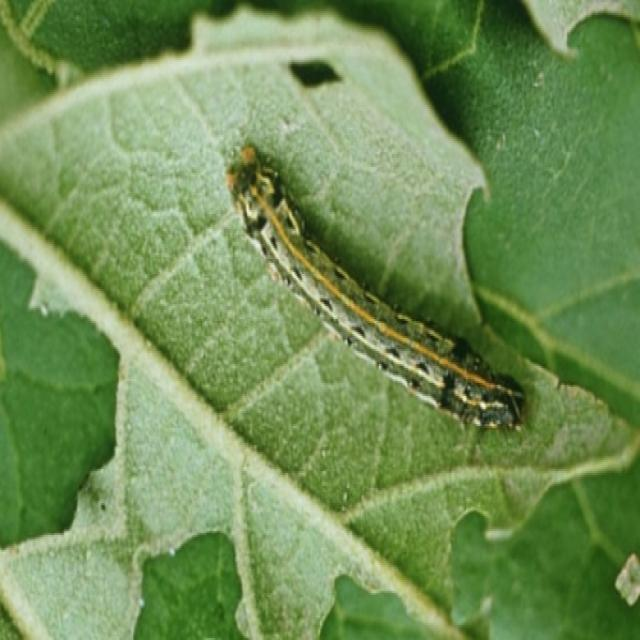Armyworm: (218, 111, 527, 472)
Armyworm_damage: (272, 40, 358, 110)
